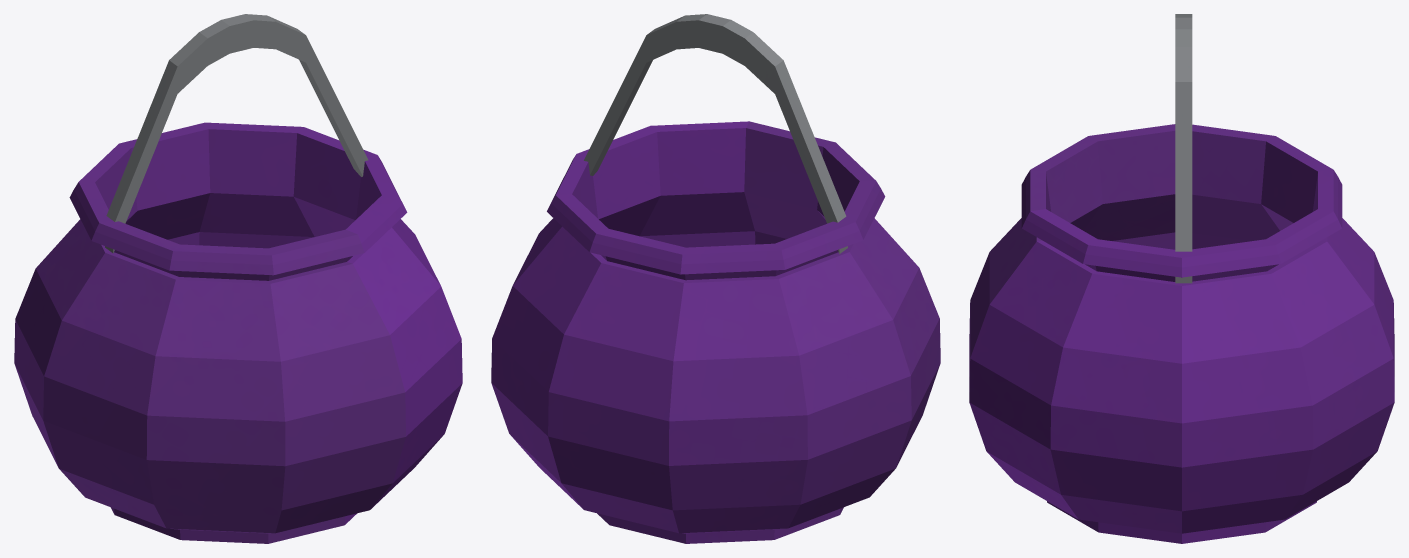
File: Caldeirao_Root.fbx
3 views of the same model, side by side, from view 1: azimuth 30°, elevation 25°; view 2: azimuth 150°, elevation 25°; view 3: azimuth 270°, elevation 25° (orthographic).
Parts seen in each view (by area): view 1: Caldeirao_frag_036, Caldeirao_frag_014, Caldeirao_frag_050, Caldeirao_frag_022, Caldeirao_frag_031, Caldeirao_frag_047, Caldeirao_frag_037, Caldeirao_frag_026, Caldeirao_frag_045, Caldeirao_frag_041, Caldeirao_frag_032, Caldeirao_frag_027 (+16 smaller); view 2: Caldeirao_frag_027, Caldeirao_frag_026, Caldeirao_frag_051, Caldeirao_frag_052, Caldeirao_frag_032, Caldeirao_frag_006, Caldeirao_frag_031, Caldeirao_frag_024, Caldeirao_frag_046, Caldeirao_frag_043, Caldeirao_frag_004, Caldeirao_frag_017 (+20 smaller); view 3: Caldeirao_frag_034, Caldeirao_frag_044, Caldeirao_frag_032, Caldeirao_frag_047, Caldeirao_frag_040, Caldeirao_frag_024, Caldeirao_frag_045, Caldeirao_frag_038, Caldeirao_frag_037, Caldeirao_frag_027, Caldeirao_frag_041, Caldeirao_frag_020 (+15 smaller).
Part boxes in pixels (x1,y1,x2,y2): Caldeirao_frag_036: (235,333,437,519); Caldeirao_frag_014: (52,339,237,463); Caldeirao_frag_050: (65,416,272,543); Caldeirao_frag_022: (195,247,318,433); Caldeirao_frag_031: (244,231,384,365); Caldeirao_frag_047: (227,125,364,233); Caldeirao_frag_037: (57,247,224,348); Caldeirao_frag_026: (103,136,223,242); Caldeirao_frag_045: (370,266,459,395); Caldeirao_frag_041: (68,208,208,306); Caldeirao_frag_032: (176,188,328,248); Caldeirao_frag_027: (26,194,109,349); Caldeirao_frag_027: (737,259,902,384); Caldeirao_frag_026: (590,238,750,359); Caldeirao_frag_051: (572,345,737,429); Caldeirao_frag_052: (570,416,748,513); Caldeirao_frag_032: (498,256,590,419); Caldeirao_frag_006: (749,379,863,498); Caldeirao_frag_031: (724,123,841,232); Caldeirao_frag_024: (597,159,725,242); Caldeirao_frag_046: (552,432,706,543); Caldeirao_frag_043: (808,350,917,497); Caldeirao_frag_004: (715,362,787,487); Caldeirao_frag_017: (632,121,754,190); Caldeirao_frag_034: (1045,306,1241,469); Caldeirao_frag_044: (1161,351,1301,516); Caldeirao_frag_032: (1263,265,1394,387); Caldeirao_frag_047: (1176,221,1308,353); Caldeirao_frag_040: (1046,434,1220,543); Caldeirao_frag_024: (1049,267,1178,400); Caldeirao_frag_045: (988,264,1054,423); Caldeirao_frag_038: (1292,372,1394,472); Caldeirao_frag_037: (1062,145,1175,234); Caldeirao_frag_027: (1192,160,1287,246); Caldeirao_frag_041: (1072,124,1222,198); Caldeirao_frag_020: (1218,452,1368,538).
Size of the model in its own units: 44.67 by 50.73 by 42.49.
